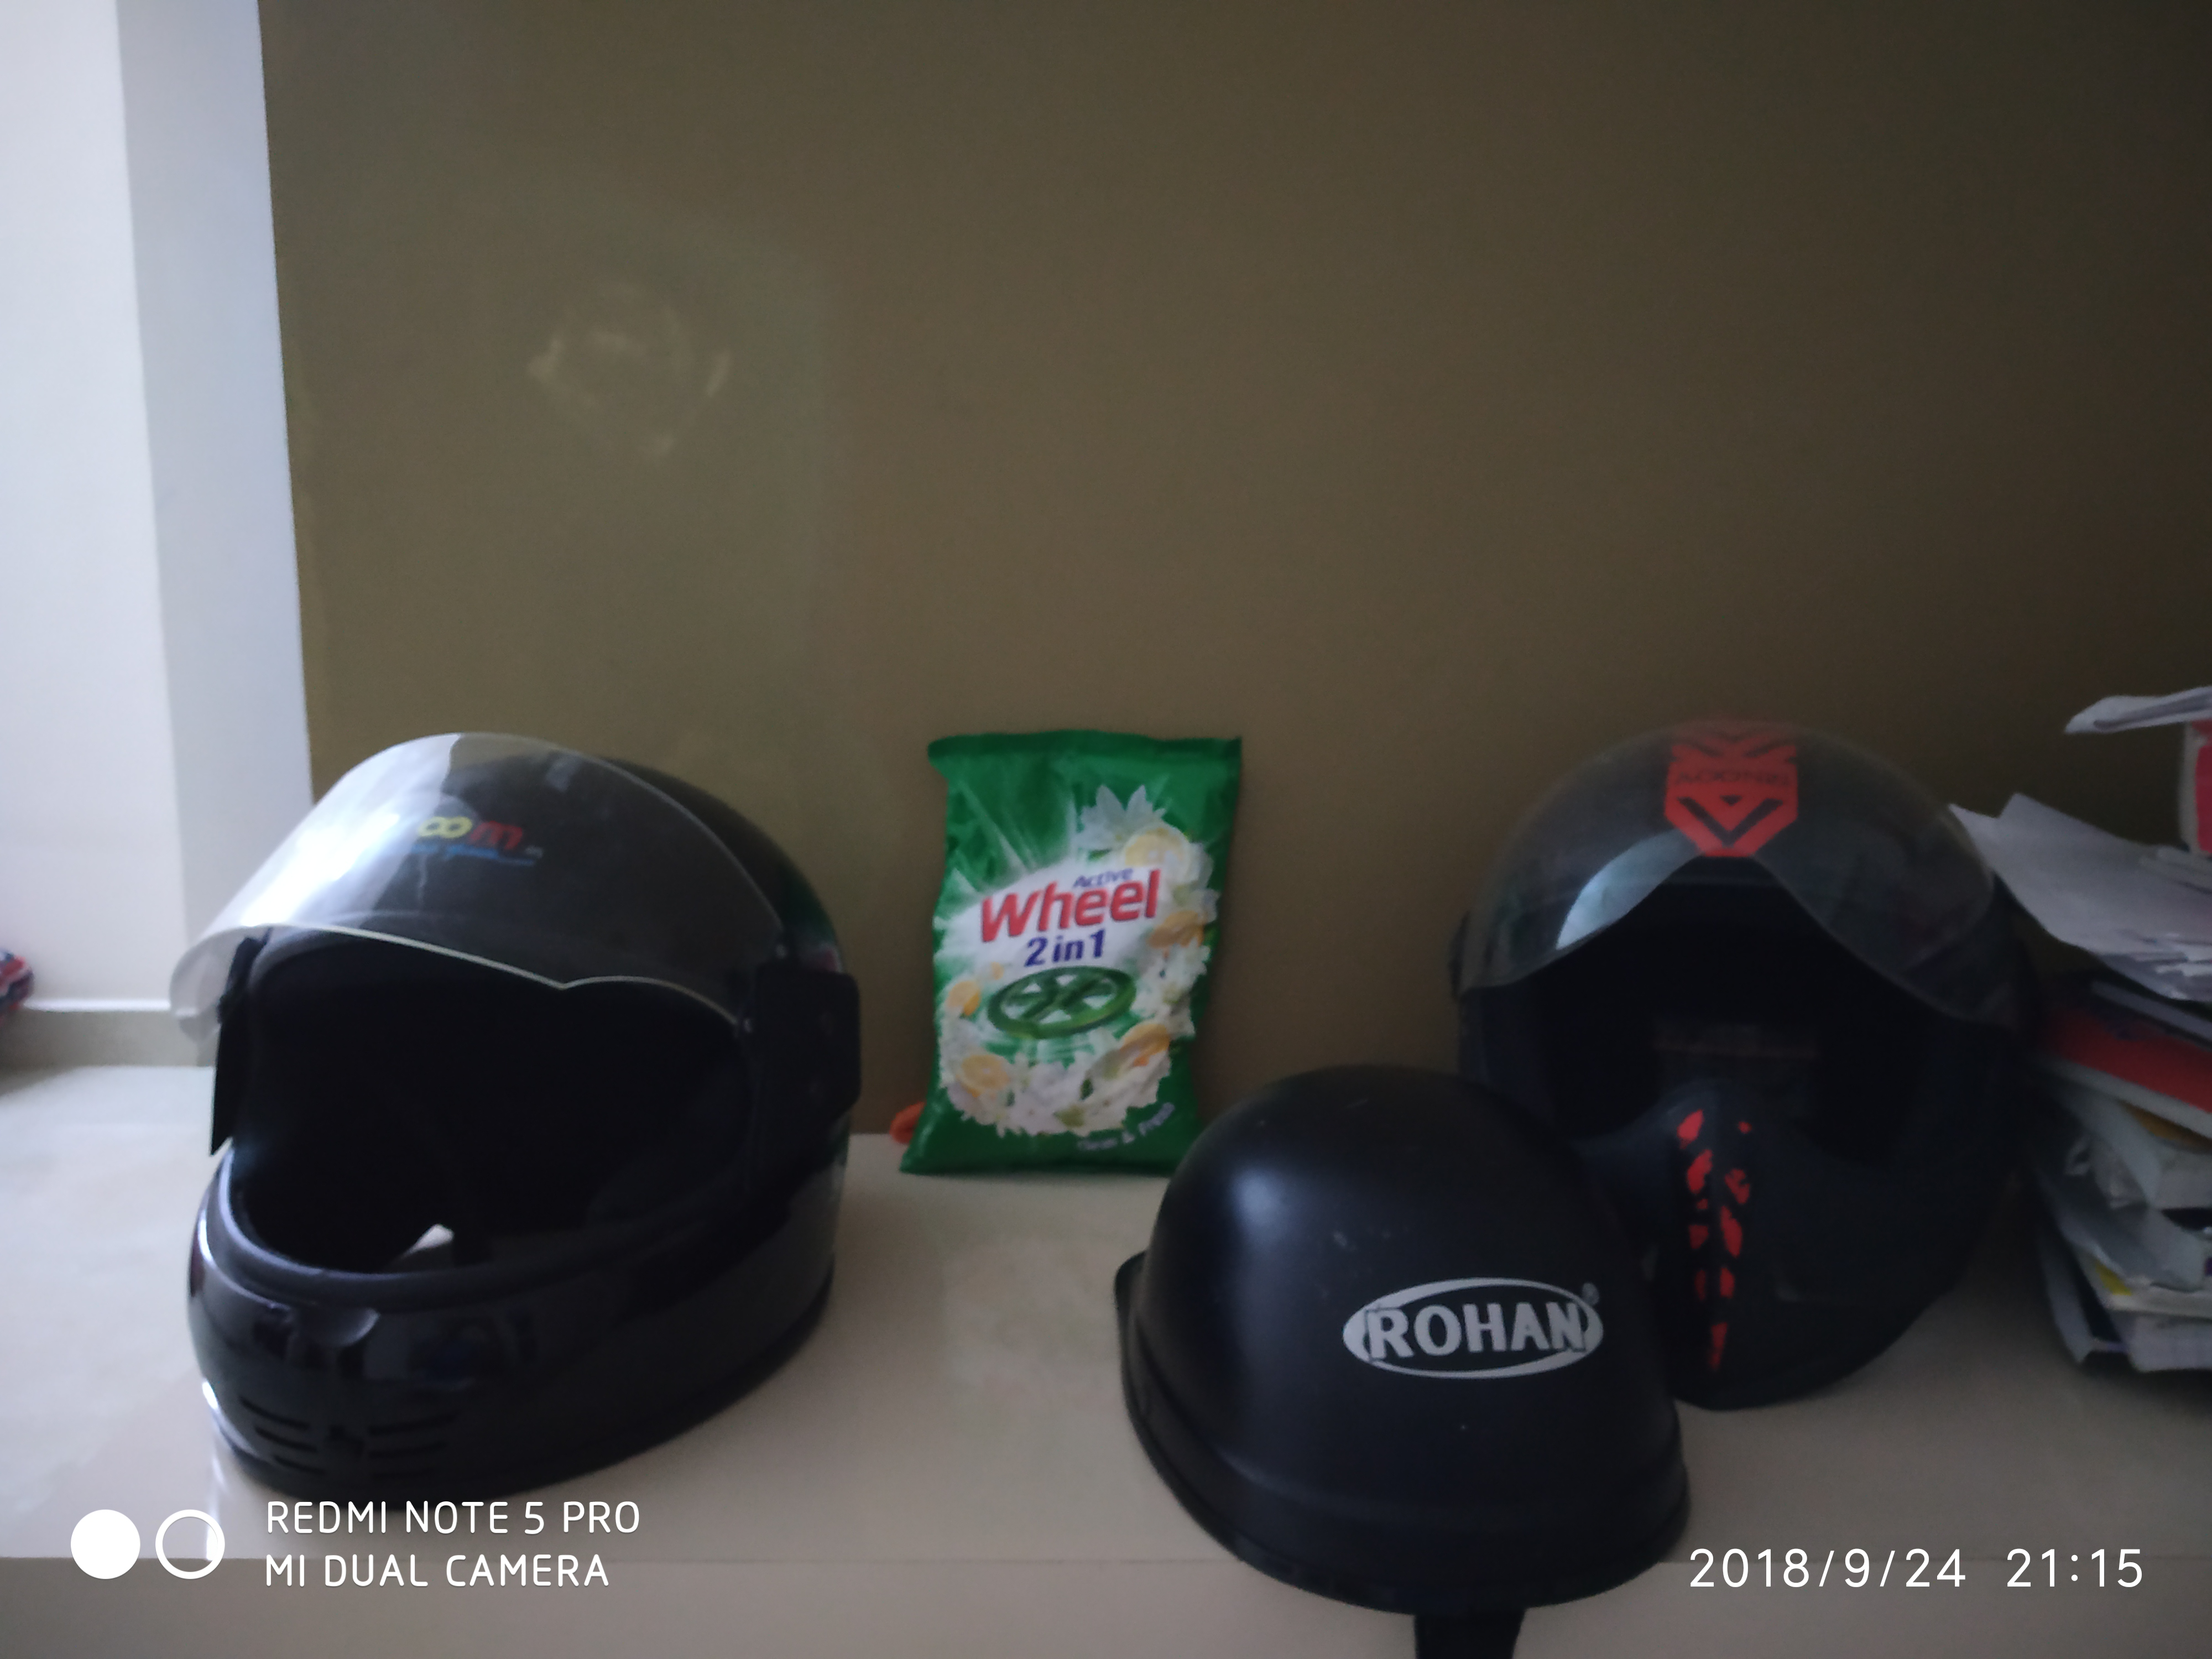detergent: (921, 722, 1220, 1161)
